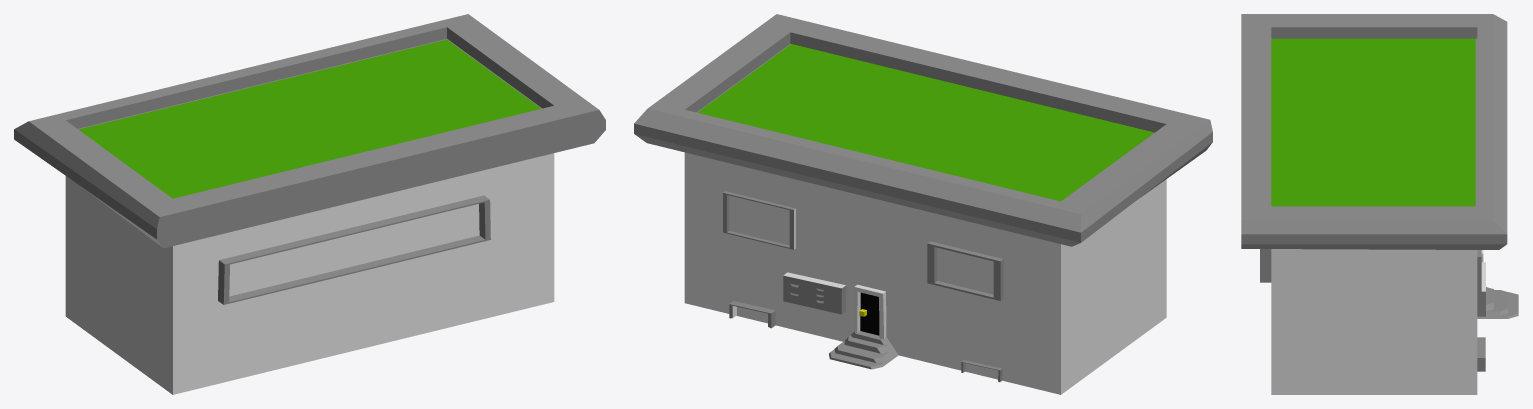
File: huis_3.fbx
3 views of the same model, side by side, from view 1: azimuth 30°, elevation 25°; view 2: azimuth 150°, elevation 25°; view 3: azimuth 270°, elevation 25° (orthographic). The views are drawn at different scales.
Visible parts, largest first — view 1: Cube; view 2: Cube; view 3: Cube.
Boxes of the visible parts, x1,y1,x2,y2 form: Cube: (14,14,605,394); Cube: (634,14,1212,394); Cube: (1241,14,1518,394).
Size of the model in its own units: 3305 by 1367 by 1820.
